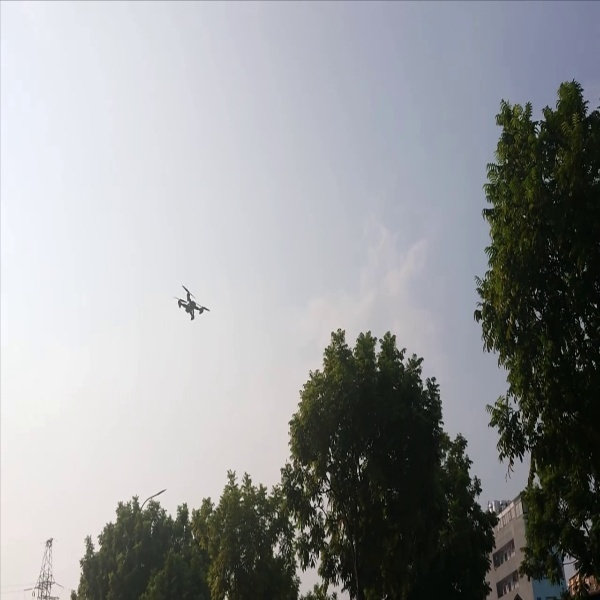drone: (166, 281, 214, 330)
